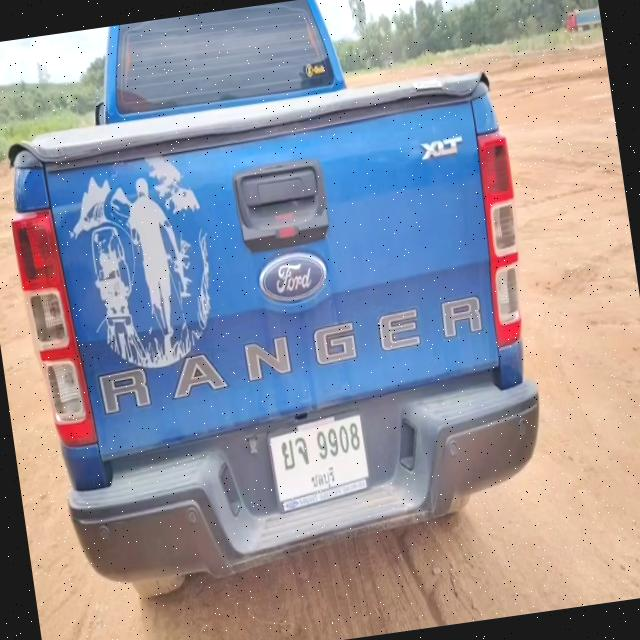Digit: (314, 416, 362, 461)
Licenseplate: (264, 410, 376, 510)
Provincename: (309, 464, 337, 492)
Thaichar: (280, 434, 312, 474)
